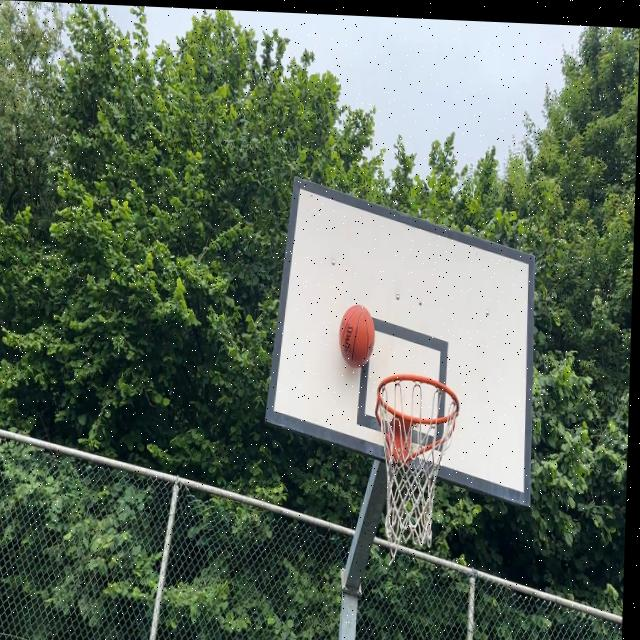rebound_hit: (338, 303, 375, 374)
